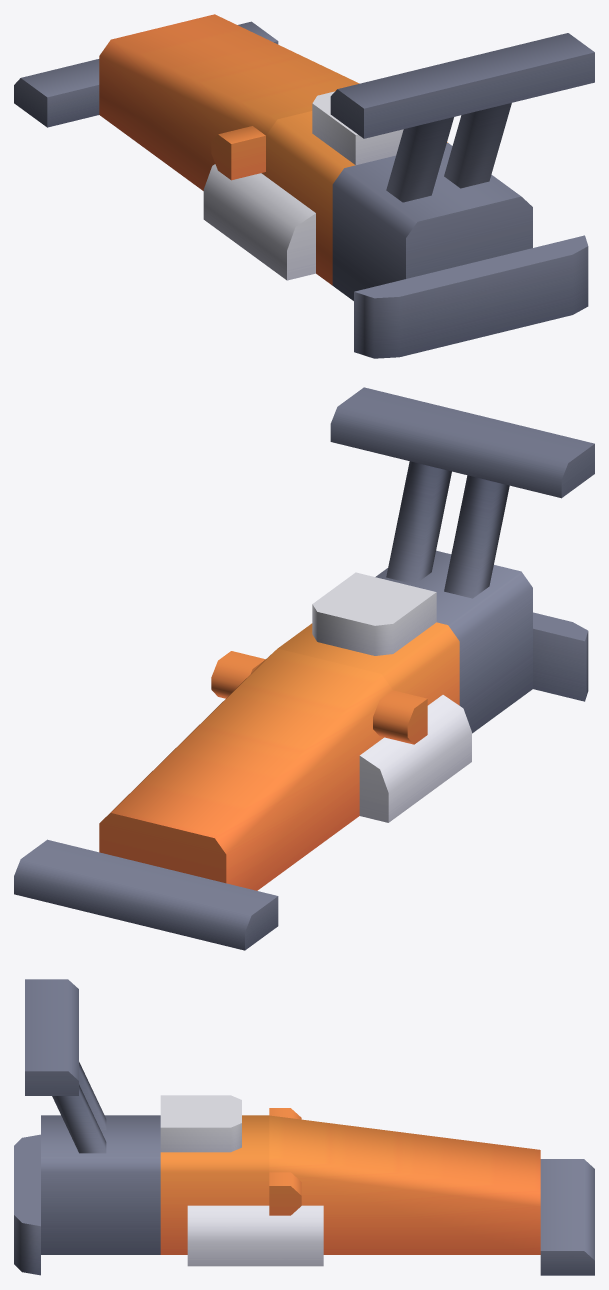
The model's file is vehicle-drag-racer_01.fbx.
The picture shows the model from 3 angles, top to bottom: view 1: azimuth 30°, elevation 25°; view 2: azimuth 150°, elevation 25°; view 3: azimuth 270°, elevation 25°; orthographic projection. The views are drawn at different scales.
Visible parts, largest first — view 1: vehicle-drag-racer; view 2: vehicle-drag-racer; view 3: vehicle-drag-racer.
Part boxes in pixels (<box>): vehicle-drag-racer: <box>14,14,594,358</box>; vehicle-drag-racer: <box>14,387,594,950</box>; vehicle-drag-racer: <box>14,979,594,1275</box>.
Size of the model in its own units: 50 by 51.88 by 134.
1 material, 1 textured.
